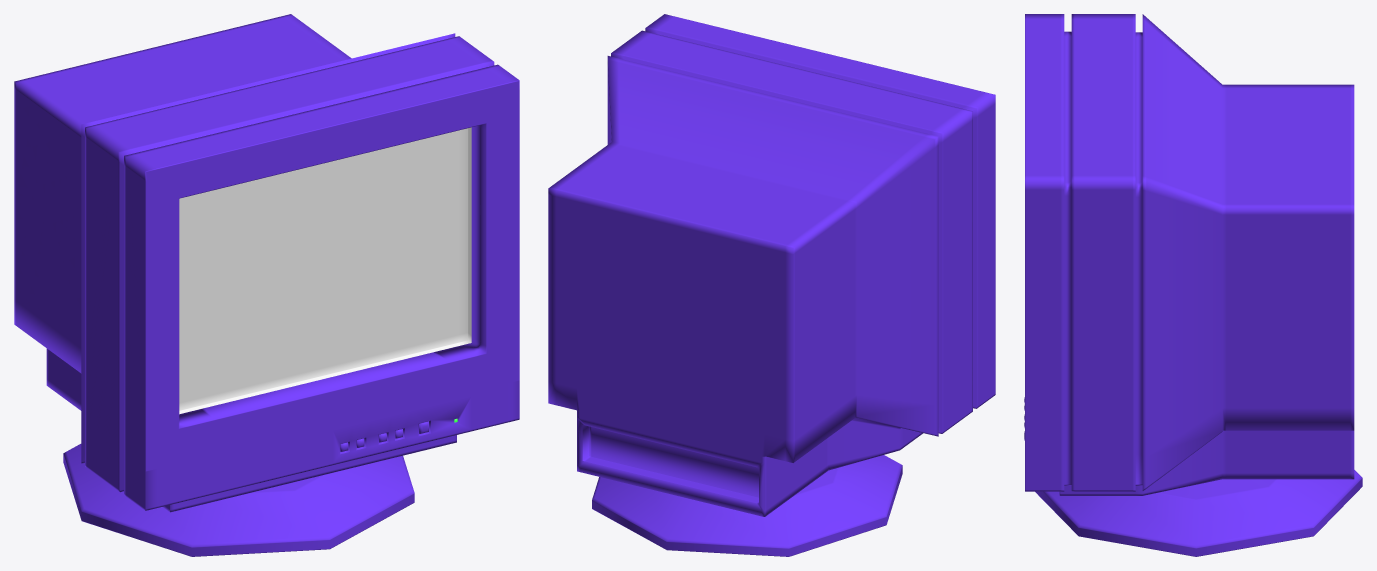
The model's file is screen.glb.
3 renders of one model, left to right at view 1: azimuth 30°, elevation 25°; view 2: azimuth 150°, elevation 25°; view 3: azimuth 270°, elevation 25°, orthographic. The views are drawn at different scales.
Visible parts, largest first — view 1: Layer_0; view 2: Layer_0; view 3: Layer_0.
Part boxes in pixels (x1=…): Layer_0: x1=14, y1=14, x2=519, y2=556; Layer_0: x1=548, y1=14, x2=995, y2=556; Layer_0: x1=1024, y1=14, x2=1362, y2=556.
Size of the model in its own units: 0.1249 by 0.1357 by 0.1069.
